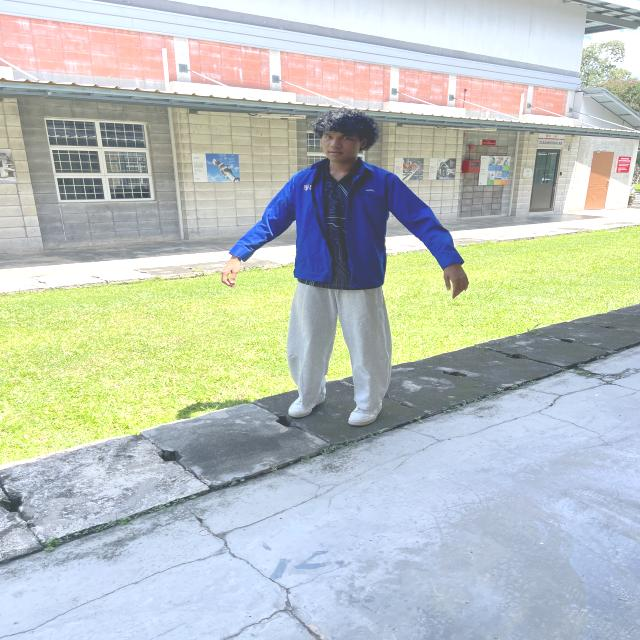person_with_labcoat: (221, 110, 468, 427)
